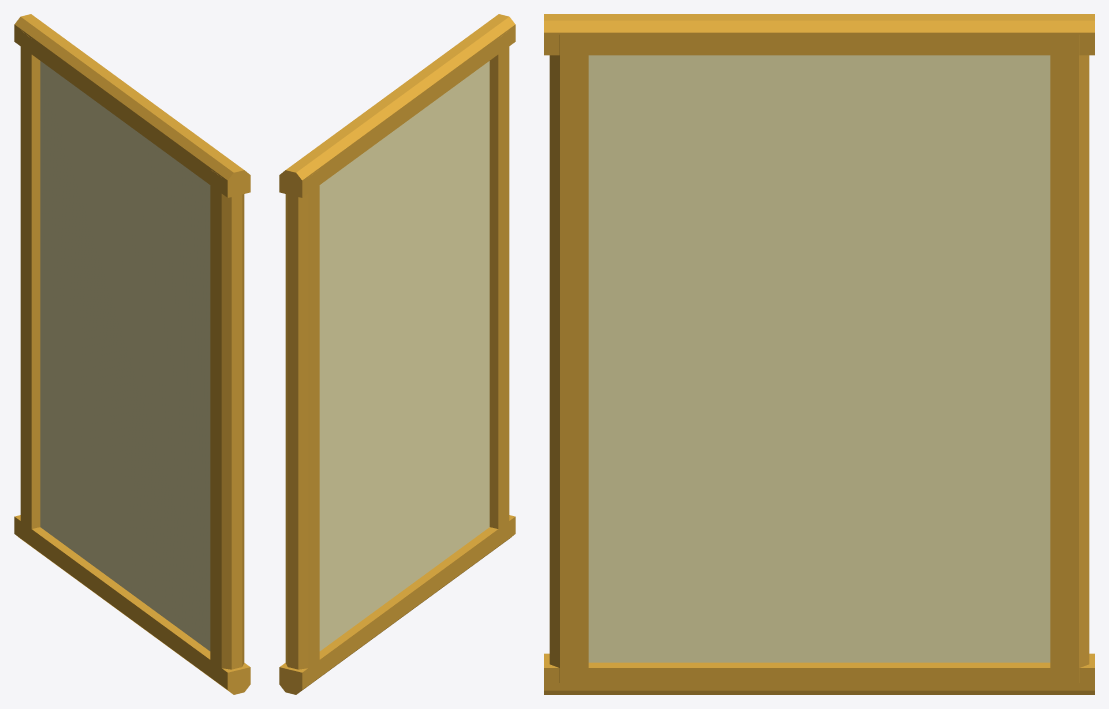
Rendered from PAINTING.fbx.
3 renders of one model, left to right at view 1: azimuth 30°, elevation 25°; view 2: azimuth 150°, elevation 25°; view 3: azimuth 270°, elevation 25°, orthographic. The views are drawn at different scales.
Visible parts, largest first — view 1: Cube, Cube.001, Cube.002; view 2: Cube, Cube.001, Cube.002; view 3: Cube, Cube.001, Cube.002.
Part boxes in pixels (left/top/right/bottom): Cube: left=40, top=61, right=210, bottom=650; Cube.001: left=20, top=31, right=244, bottom=679; Cube.002: left=14, top=14, right=250, bottom=694; Cube: left=319, top=61, right=489, bottom=650; Cube.001: left=285, top=31, right=509, bottom=679; Cube.002: left=279, top=14, right=515, bottom=694; Cube: left=588, top=55, right=1050, bottom=662; Cube.001: left=549, top=34, right=1089, bottom=682; Cube.002: left=544, top=14, right=1094, bottom=694.
Bounding box in the file's own units: 40.43 × 879 × 651.
